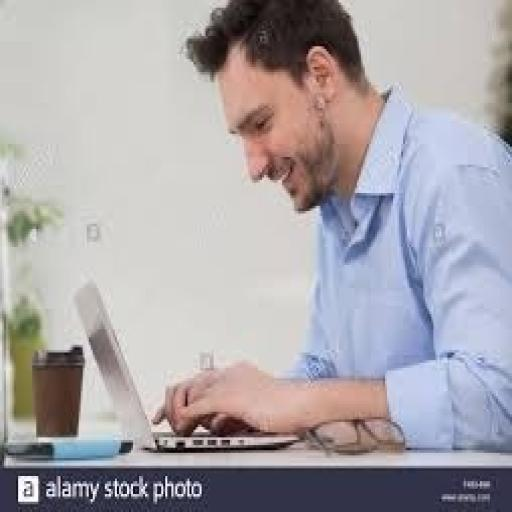using_laptop: (70, 278, 300, 453)
